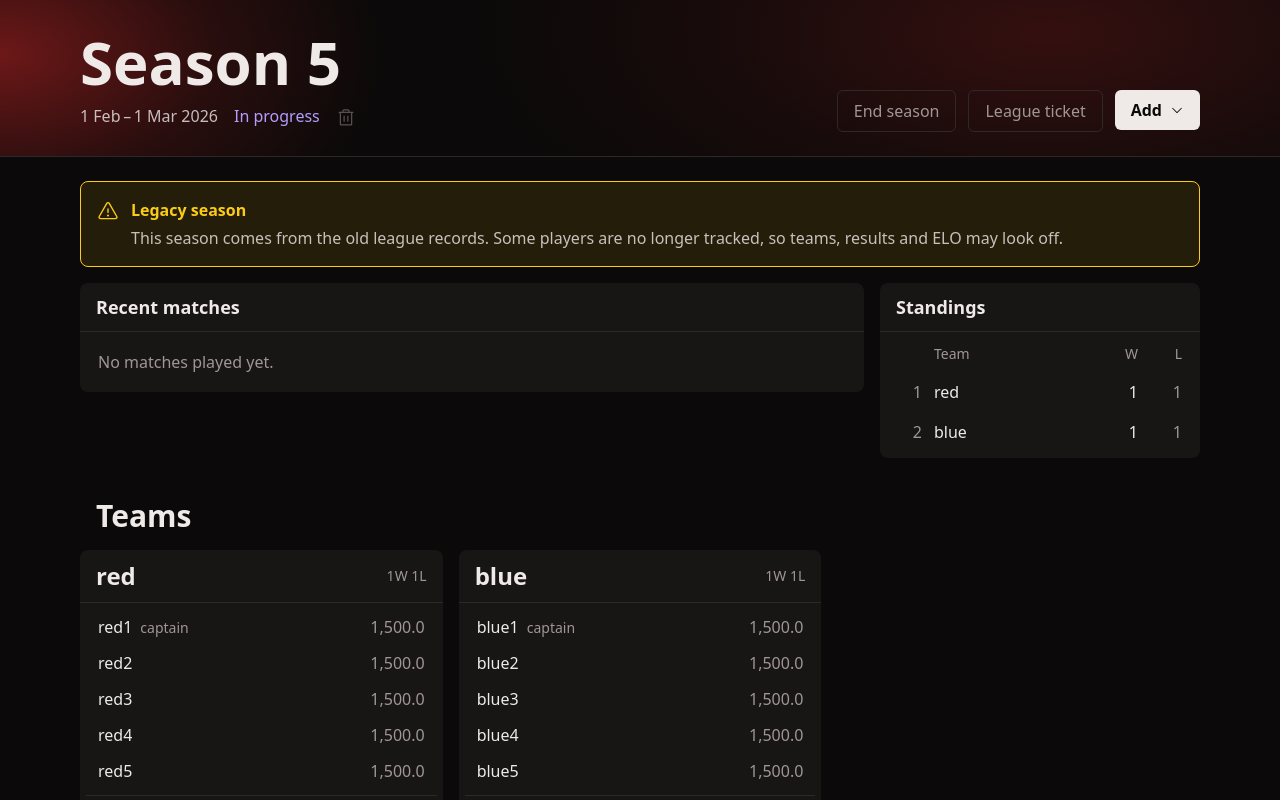
Test: says why a forfeit was refused
The image size is (1280, 800).
Click the button "Add" at (1157, 110), box [1115,90,1200,130]
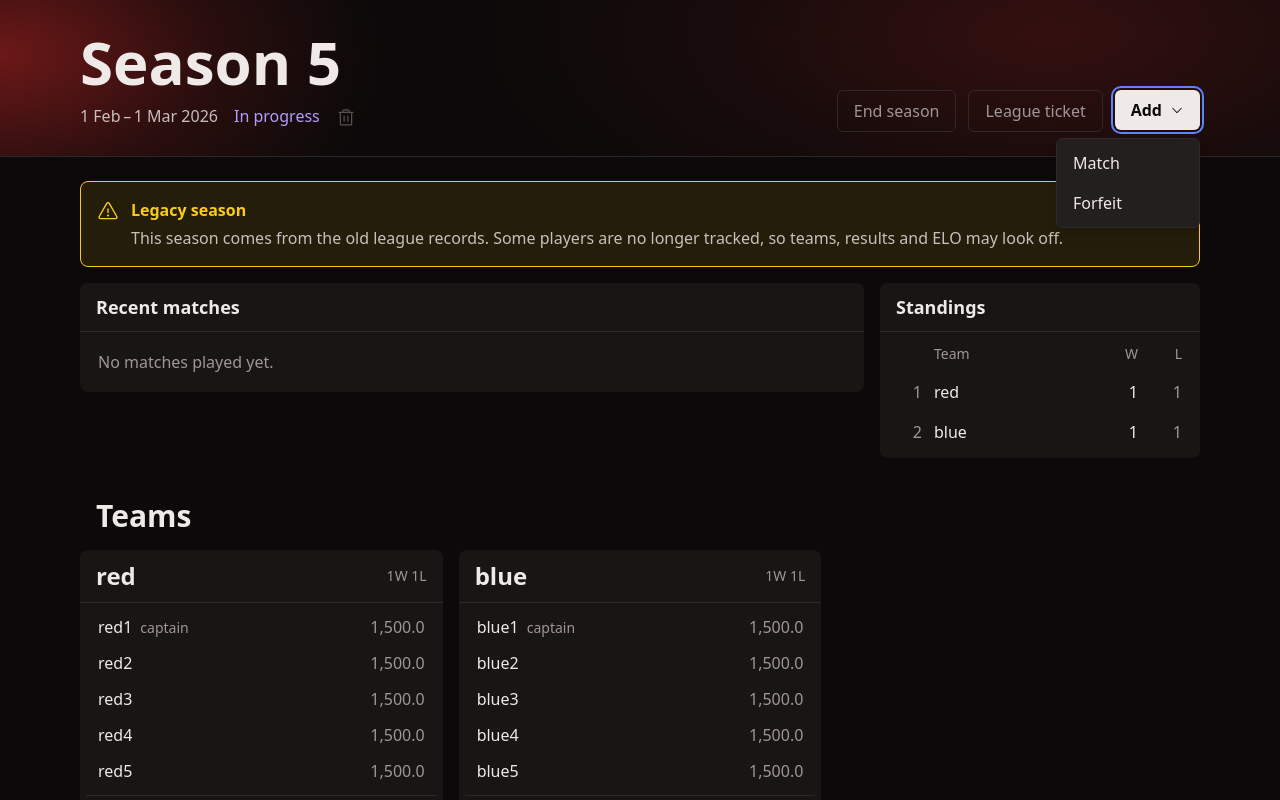
Click the menu item "Forfeit" at (1128, 203), box [1061,183,1195,223]
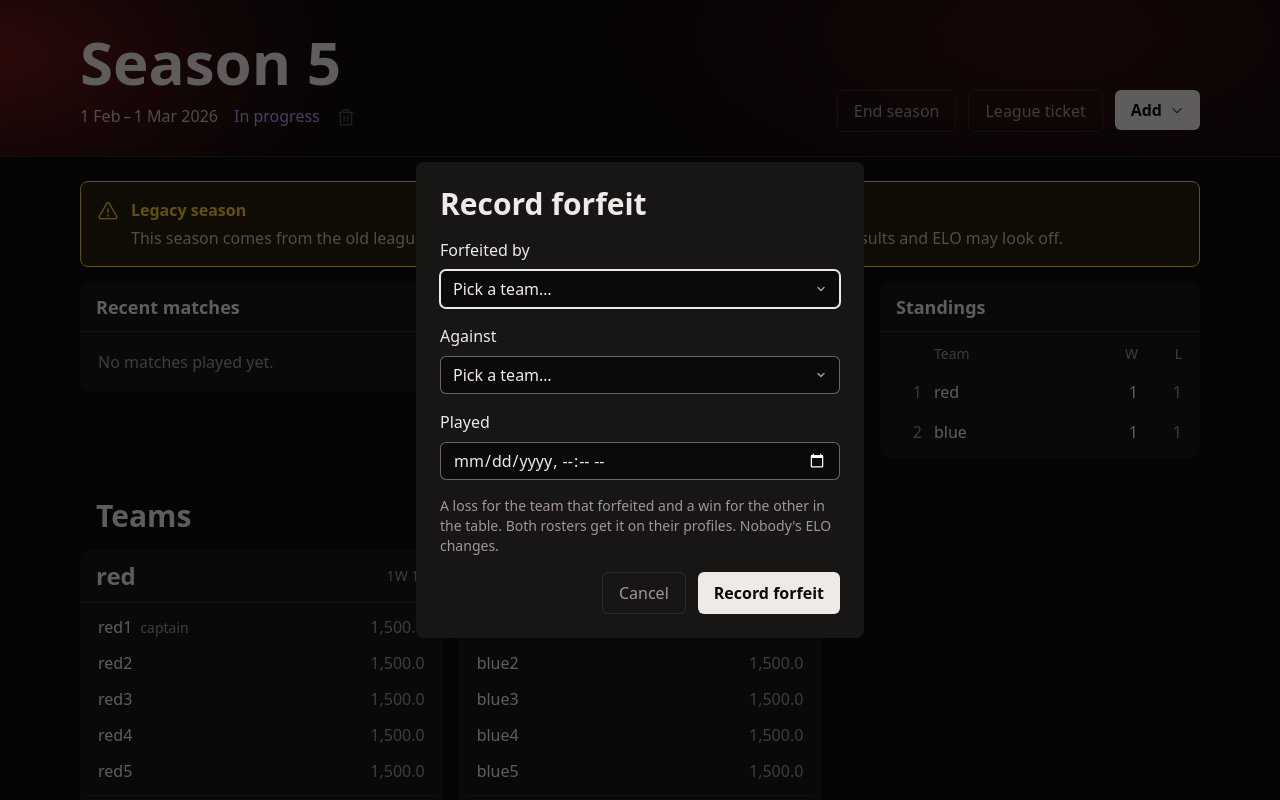
Select "red" in the dropdown labelled "Forfeited by" at (640, 289), box [440,270,840,308]
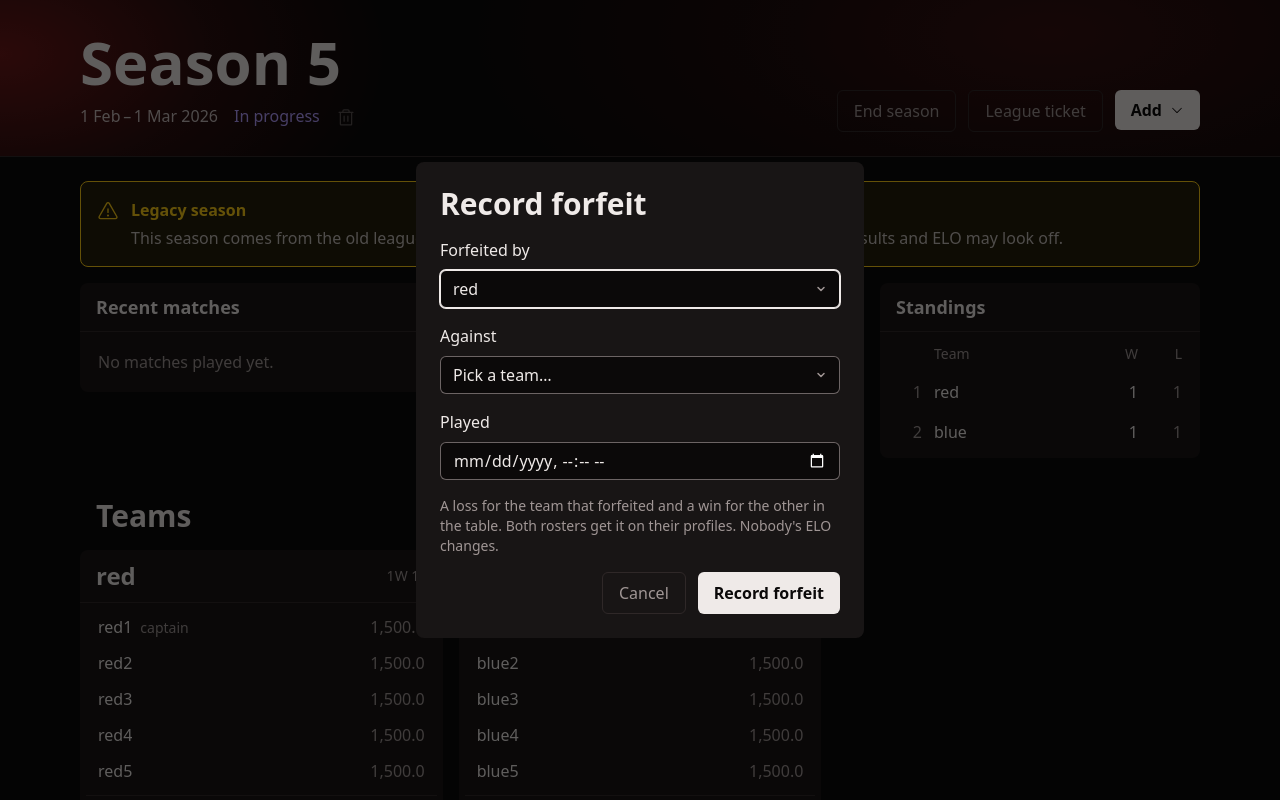
Select "blue" in the dropdown labelled "Against" at (640, 375), box [440,356,840,394]
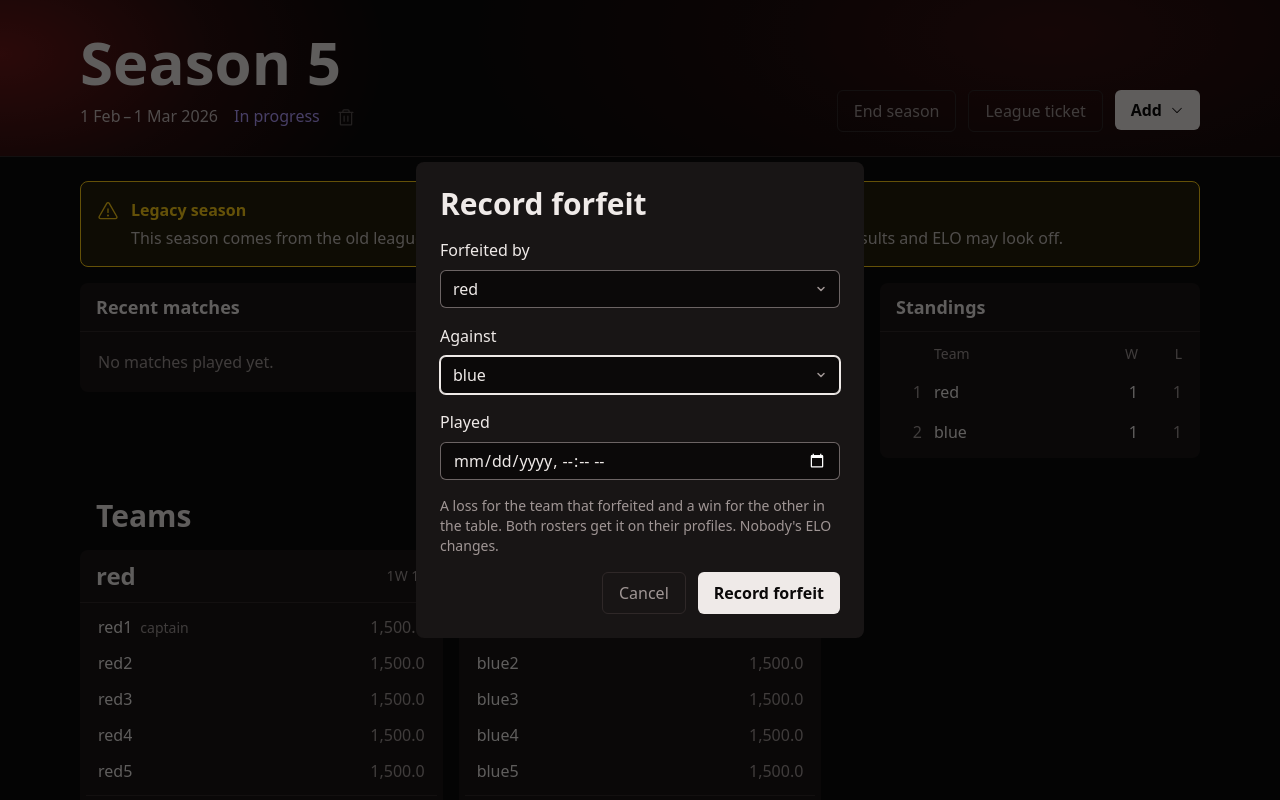
Type "2026-02-10T19:00" into the field labelled "Played" at (640, 461), box [440,442,840,480]
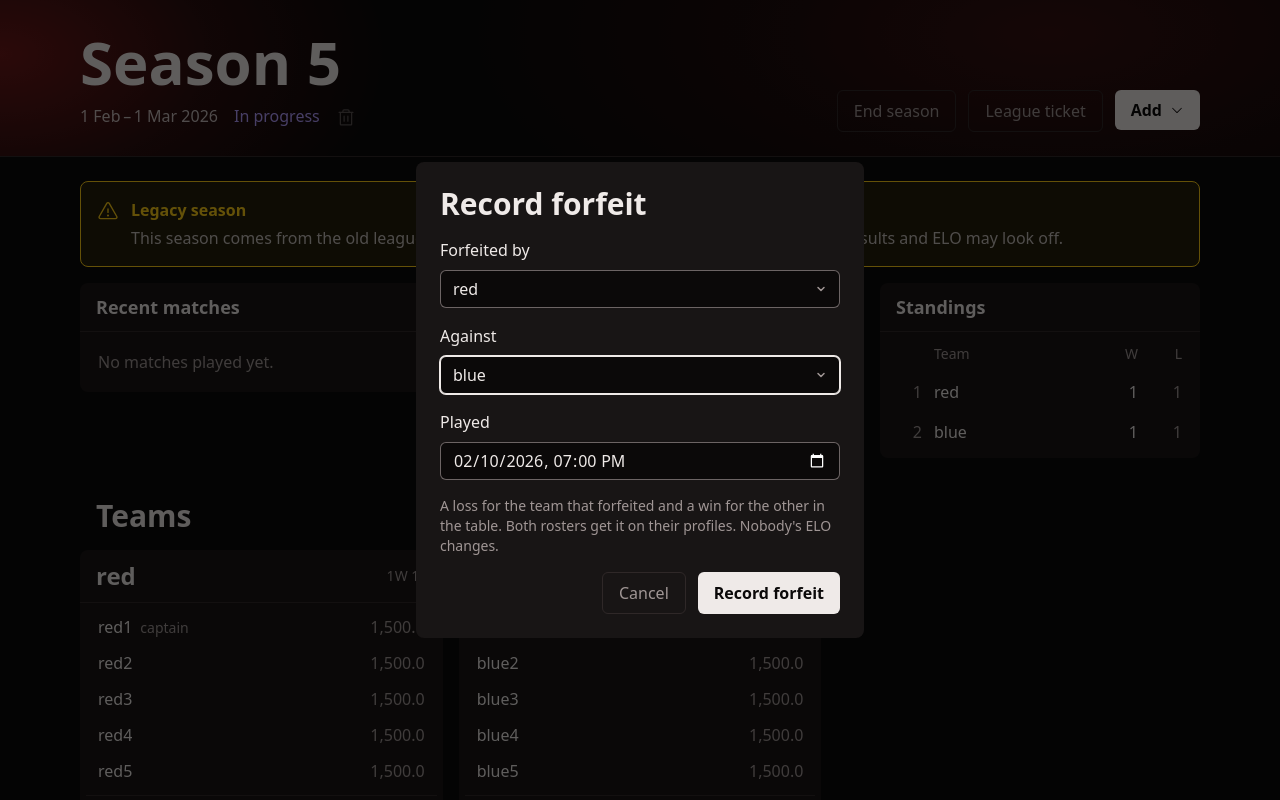
Click the button "Record forfeit" at (769, 593), box [698,572,840,614]
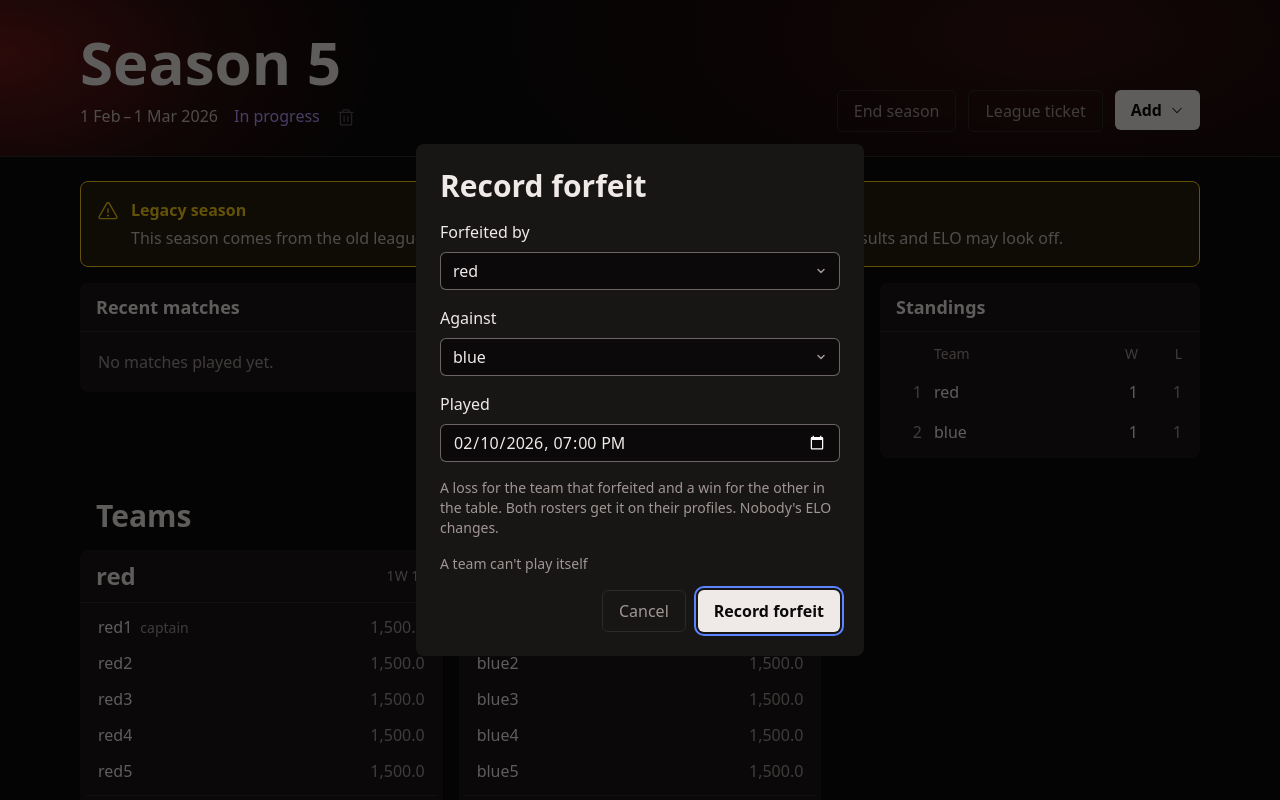
Expected: the message reads "A team can't play itself", [440,554,588,573]
